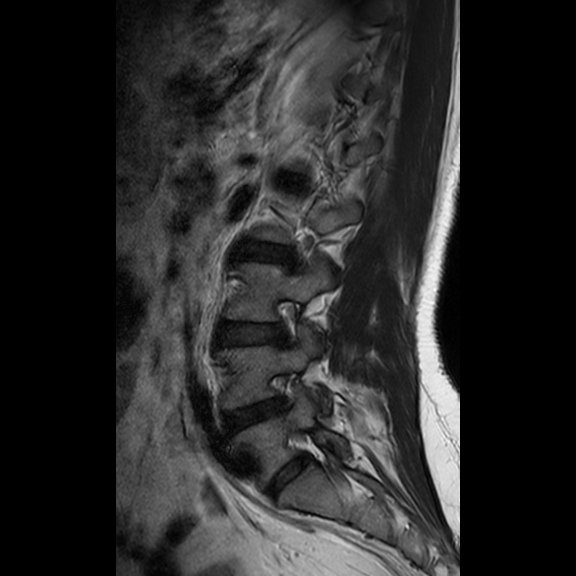LFS1: (264, 291, 317, 357)
LFS2: (258, 363, 314, 427)
